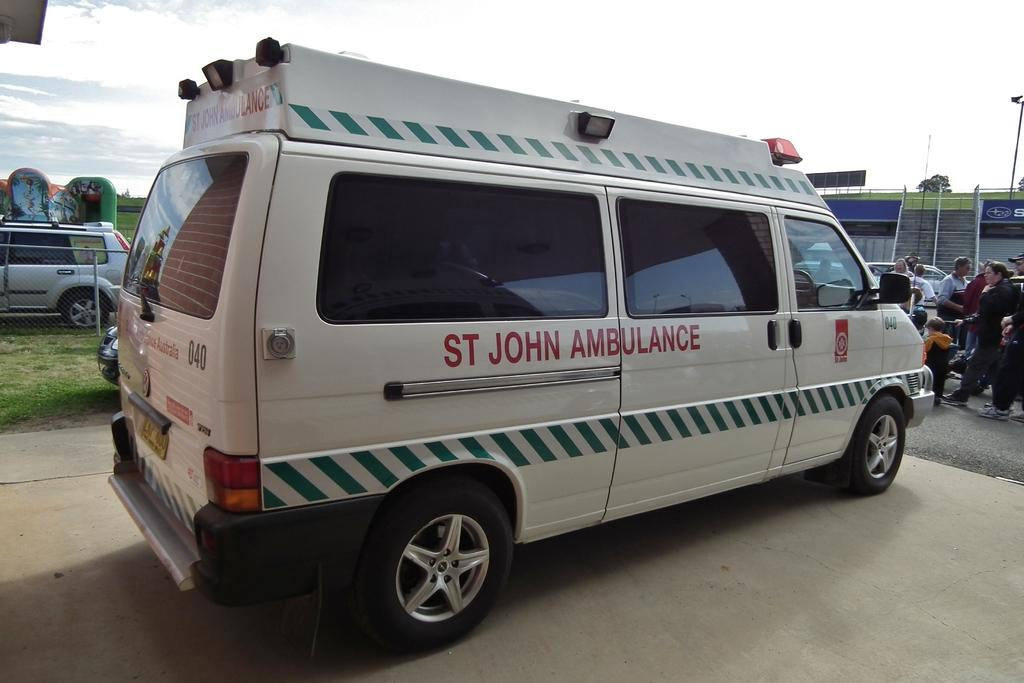vehicle: (108, 37, 935, 660), (0, 219, 130, 326)
